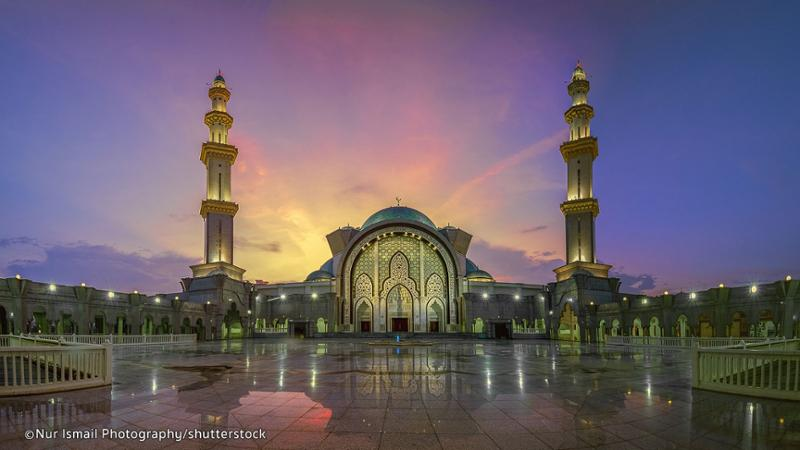Mosque: (136, 50, 635, 335)
